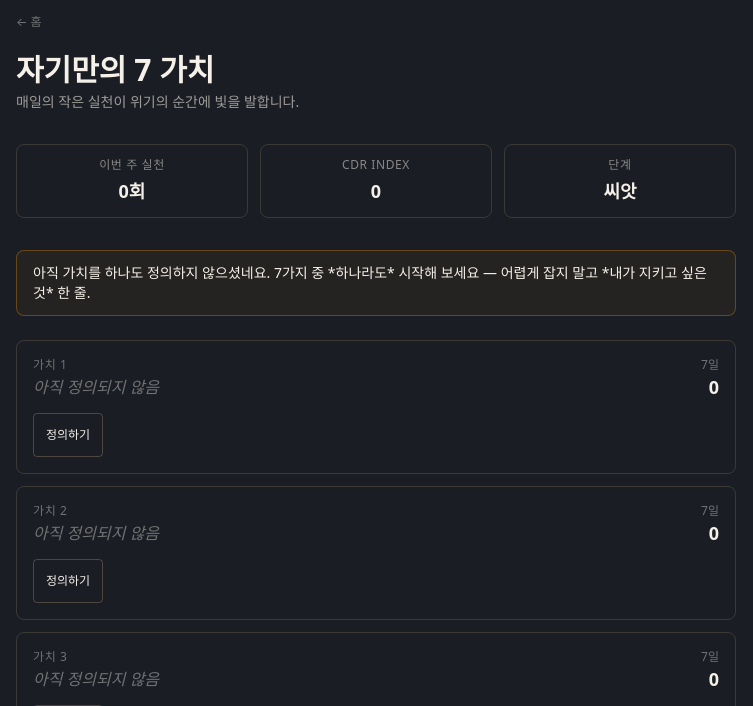
Test case: 가치 정의·수정 폼 › 저장 중에는 버튼이 '저장 중...' 으로 잠긴다
Click the 1st button "정의하기".
click(68, 435)  # box [33,413,103,457]
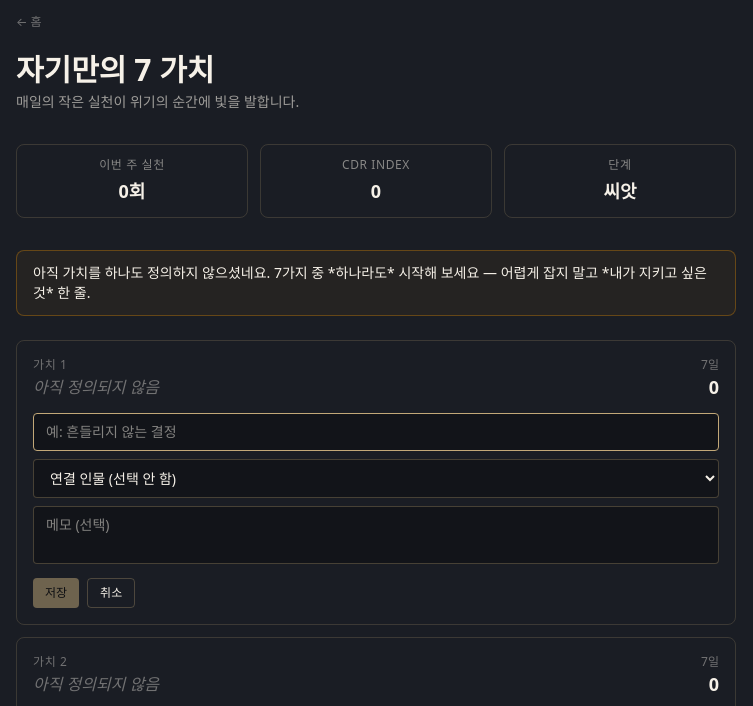
Type "쉼" into the field with placeholder "예: 흔들리지 않는 결정".
click(376, 432); type("쉼")  # box [33,413,719,451]
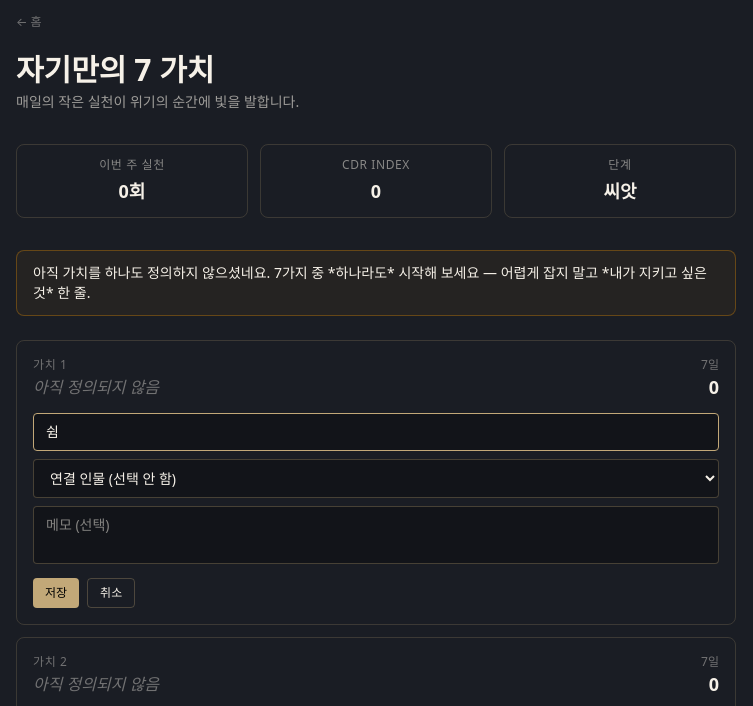
Click the button "저장".
click(56, 593)  # box [33,578,79,608]
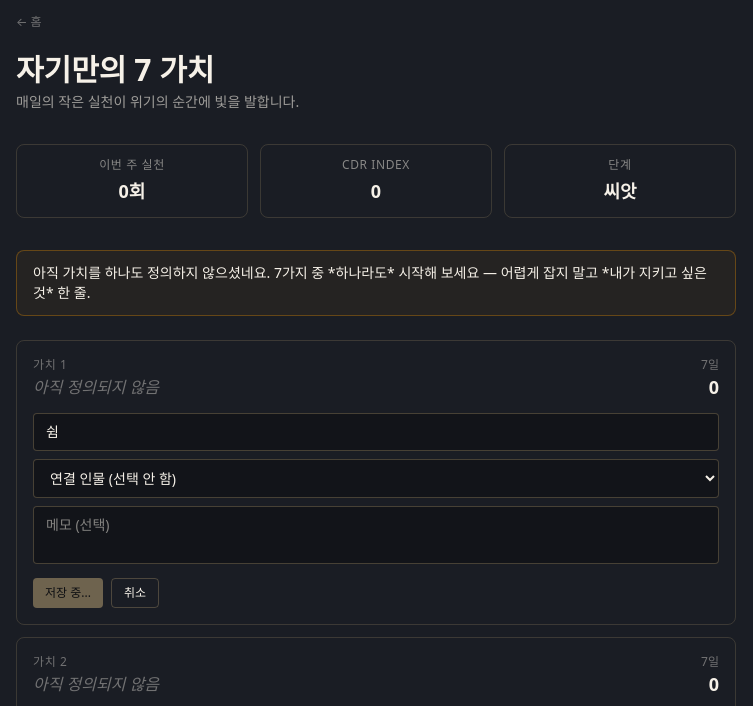
Result: the button "저장 중..." is disabled at [33,578,103,608]
